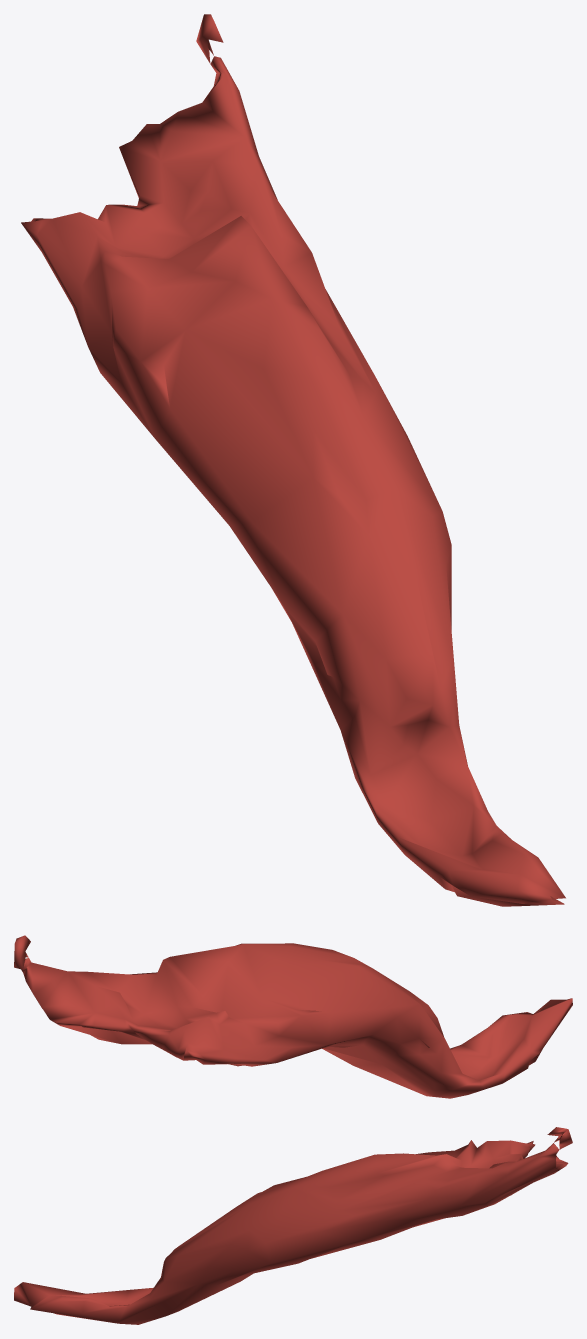
File: musculos-lateral-head-of-flexor-hallucis-brevis-r.glb
3 views of the same model, one above another, from view 1: azimuth 30°, elevation 25°; view 2: azimuth 150°, elevation 25°; view 3: azimuth 270°, elevation 25° (orthographic). The views are drawn at different scales.
Visible parts, largest first — view 1: Lateral head of flexor hallucis brevis.r; view 2: Lateral head of flexor hallucis brevis.r; view 3: Lateral head of flexor hallucis brevis.r.
Boxes of the visible parts, left/top/right/bottom form: Lateral head of flexor hallucis brevis.r: left=21, top=14, right=565, bottom=906; Lateral head of flexor hallucis brevis.r: left=14, top=935, right=572, bottom=1098; Lateral head of flexor hallucis brevis.r: left=14, top=1127, right=572, bottom=1324.
Bounding box in the file's own units: 0.0209 × 0.0385 × 0.081.
